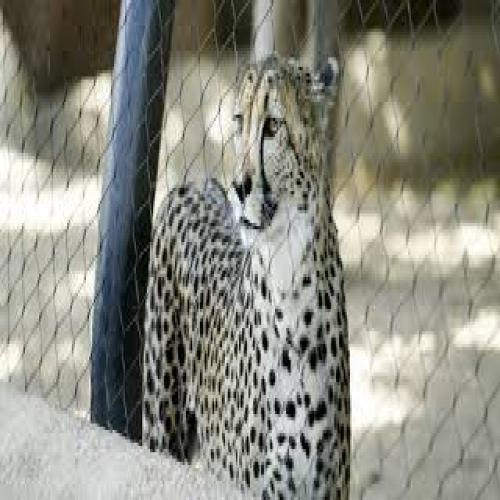cheetah-endangered: (147, 62, 351, 500)
